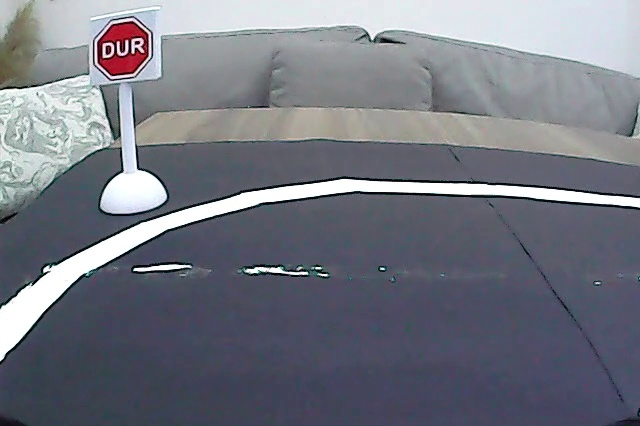stop sign: (93, 16, 156, 84)
